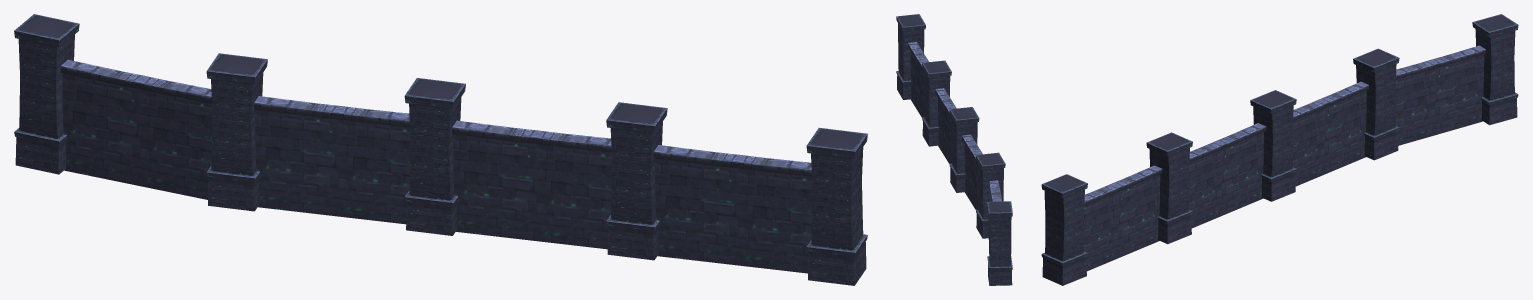
File: Area08_15.fbx
The picture shows the model from 3 angles, left to right: view 1: azimuth 30°, elevation 25°; view 2: azimuth 150°, elevation 25°; view 3: azimuth 270°, elevation 25°; orthographic projection. The views are drawn at different scales.
Visible parts, largest first — view 1: Area08_15; view 2: Area08_15; view 3: Area08_15.
Part boxes in pixels (x1=…): Area08_15: x1=14, y1=14, x2=867, y2=285; Area08_15: x1=896, y1=14, x2=1012, y2=285; Area08_15: x1=1041, y1=14, x2=1518, y2=285.
Size of the model in its own units: 2398 by 589 by 2691.
